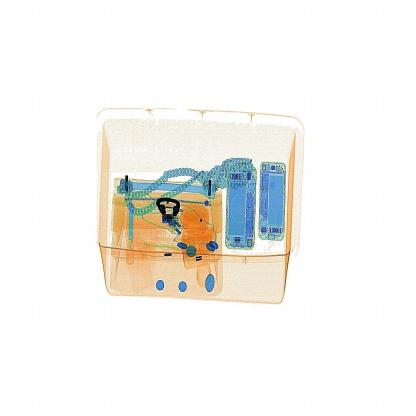pliers: (122, 195, 141, 274)
